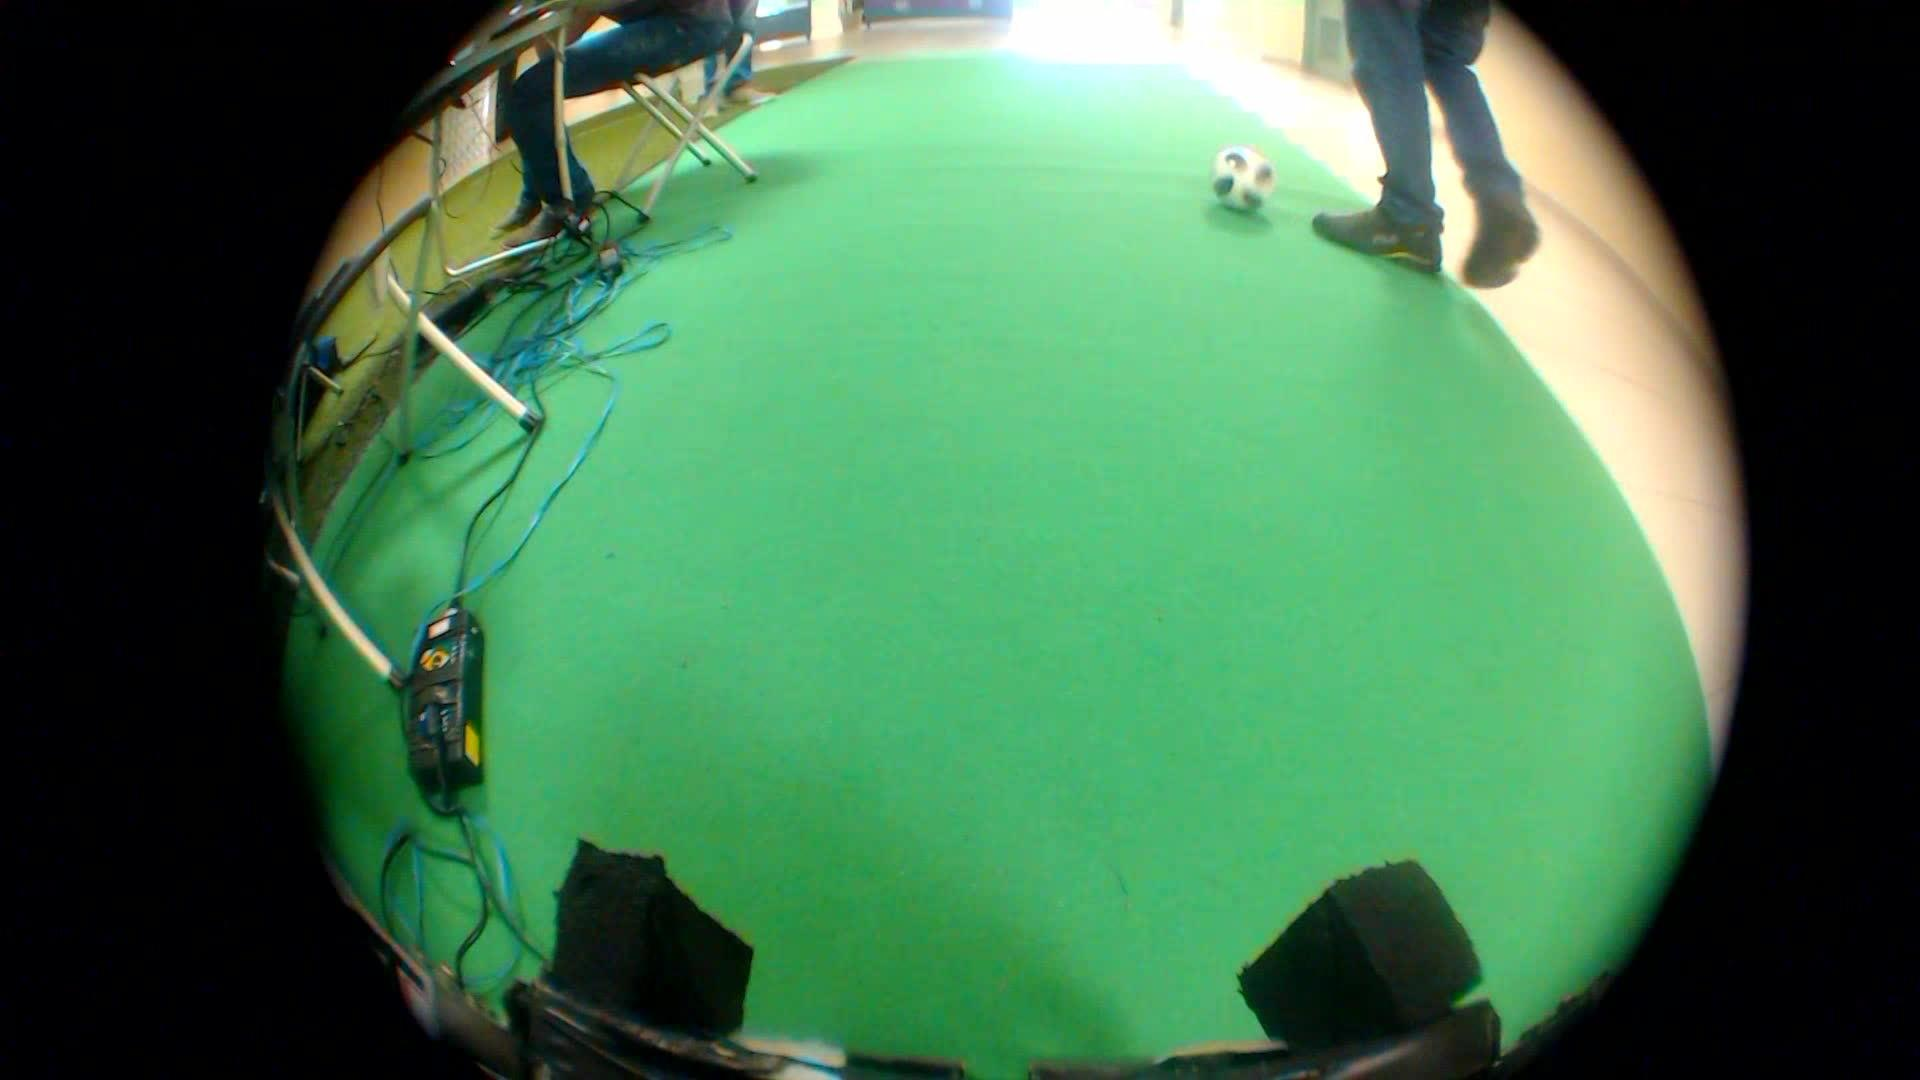ball: (1201, 131, 1280, 223)
